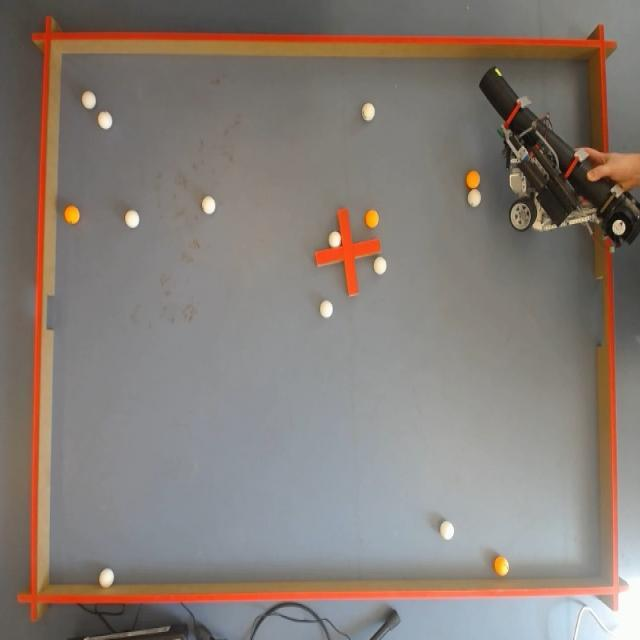orange: (494, 554, 512, 576), (64, 202, 80, 224), (464, 169, 482, 187), (367, 212, 379, 230)
robot: (470, 68, 630, 242)
white: (98, 568, 114, 588), (363, 100, 376, 122), (83, 90, 97, 110), (442, 518, 454, 540), (319, 298, 332, 318), (469, 189, 482, 208), (125, 211, 138, 230), (373, 256, 386, 275), (202, 196, 214, 216), (98, 112, 110, 132), (330, 230, 341, 248)
